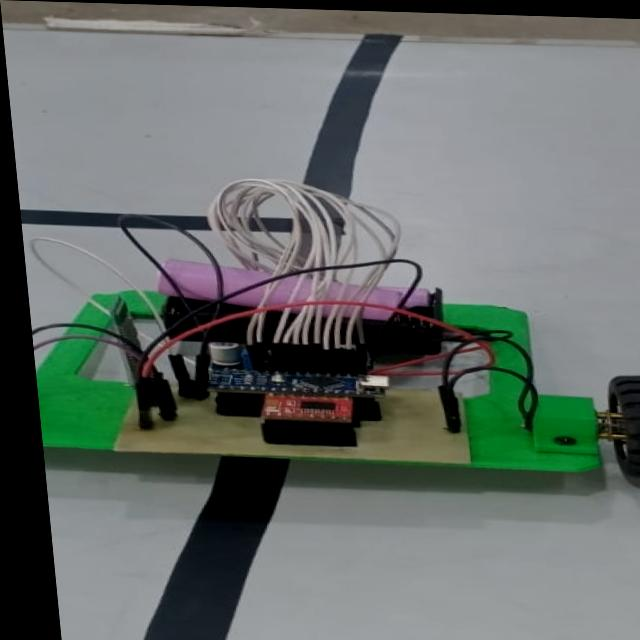vehicle: (17, 173, 640, 481)
